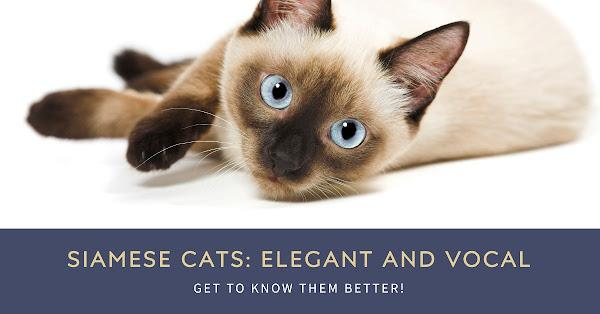siamese: (211, 1, 472, 217)
